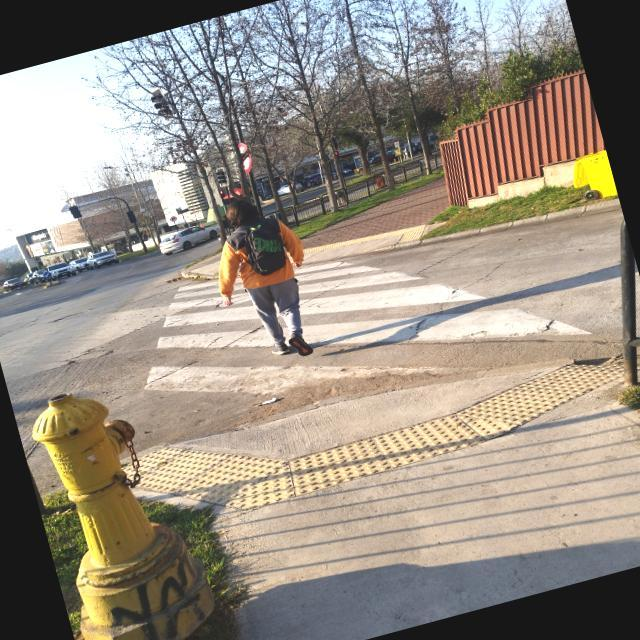person: (182, 161, 344, 387)
